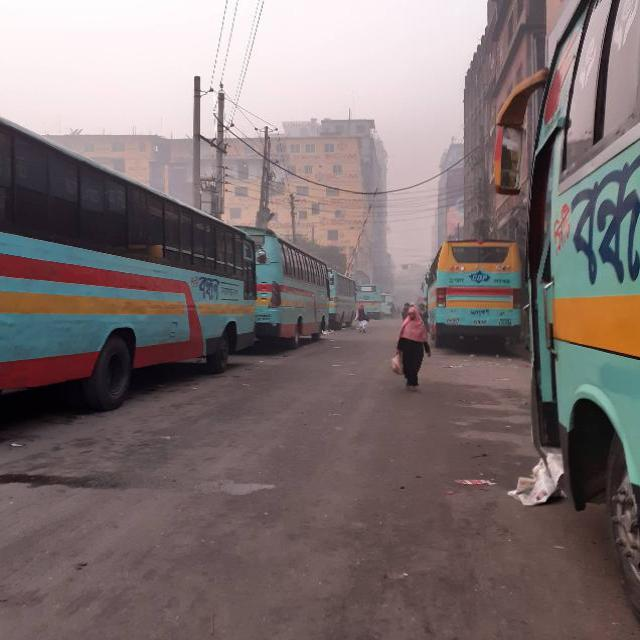Truck: (0, 113, 256, 387), (525, 0, 637, 563), (425, 239, 520, 345), (246, 226, 328, 338), (329, 268, 355, 328), (356, 284, 381, 314), (381, 292, 394, 314)
